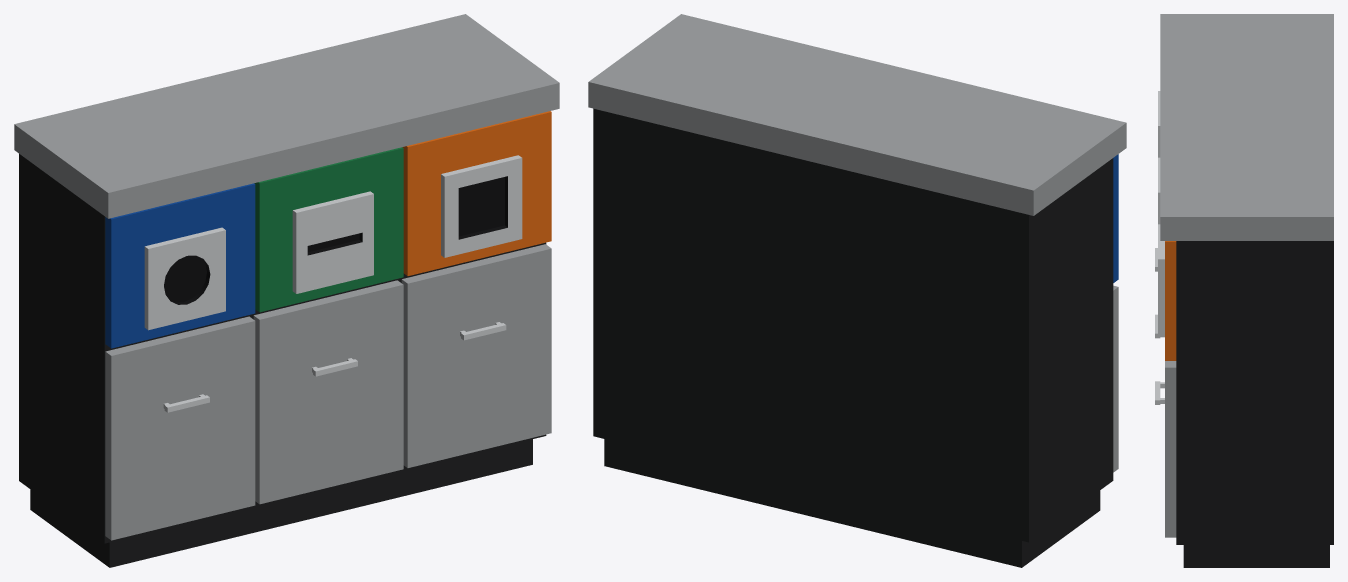
The model's file is gteki_bin_trio.glb.
3 renders of one model, left to right at view 1: azimuth 30°, elevation 25°; view 2: azimuth 150°, elevation 25°; view 3: azimuth 270°, elevation 25°, orthographic. The views are drawn at different scales.
Parts seen in each view (by area): view 1: VIS_body; view 2: VIS_body; view 3: VIS_body.
Part boxes in pixels (x1=…): VIS_body: x1=14, y1=14, x2=559, y2=567; VIS_body: x1=588, y1=14, x2=1126, y2=567; VIS_body: x1=1155, y1=14, x2=1333, y2=567.
Size of what is drawn, in the model's own units: 1.28 by 1.05 by 0.476.
Materials: 1 (1 with a texture image).
